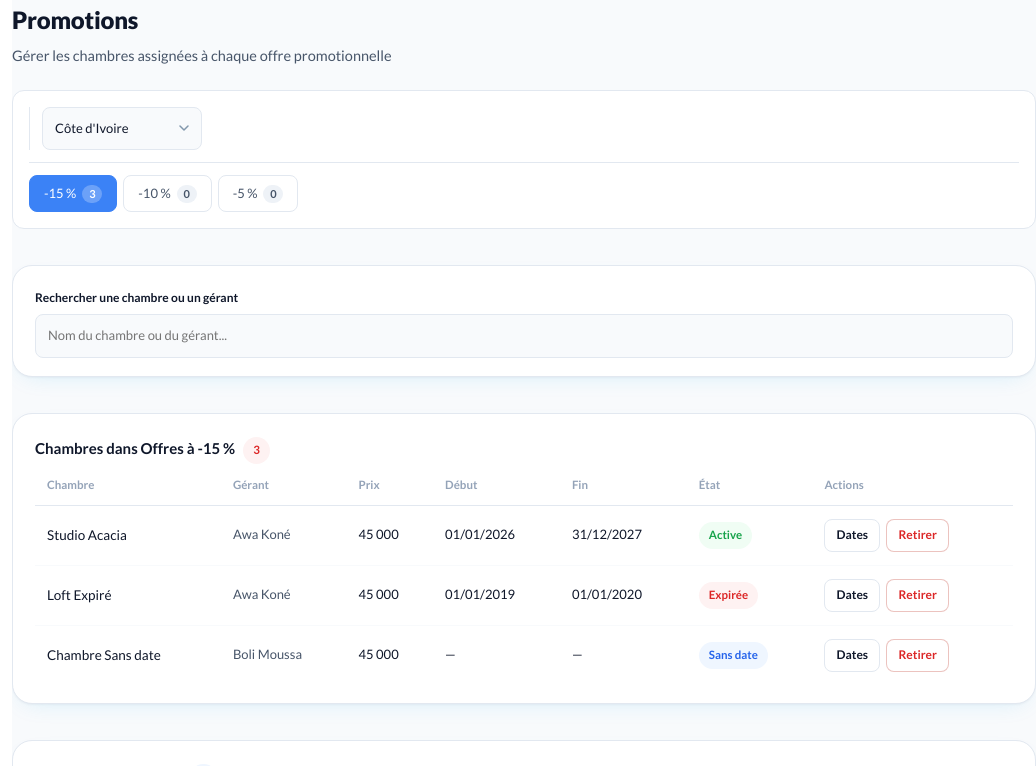
Test: AdminPromotionsPage › bascule d’onglet sans recharger la liste et vide le groupe courant
Click the button "-10 % 0".
click(167, 194)  # box [123,175,212,212]
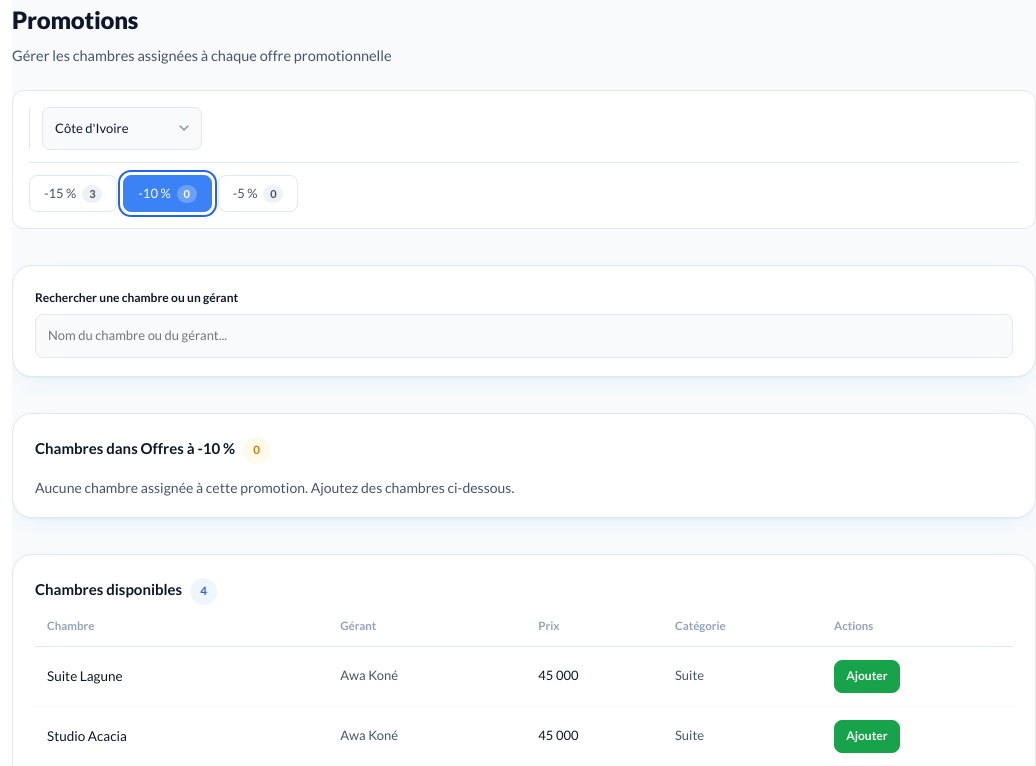
Check: the text "Suite Lagune" is shown, box [35,646,328,706]
Check: the heading "Chambres dans Offres à -10 % 0" is shown, box [35,437,270,464]
Check: the text "Aucune chambre assignée à cette promotion. Ajoutez des chambres ci-dessous." is shown, box [35,479,514,496]
